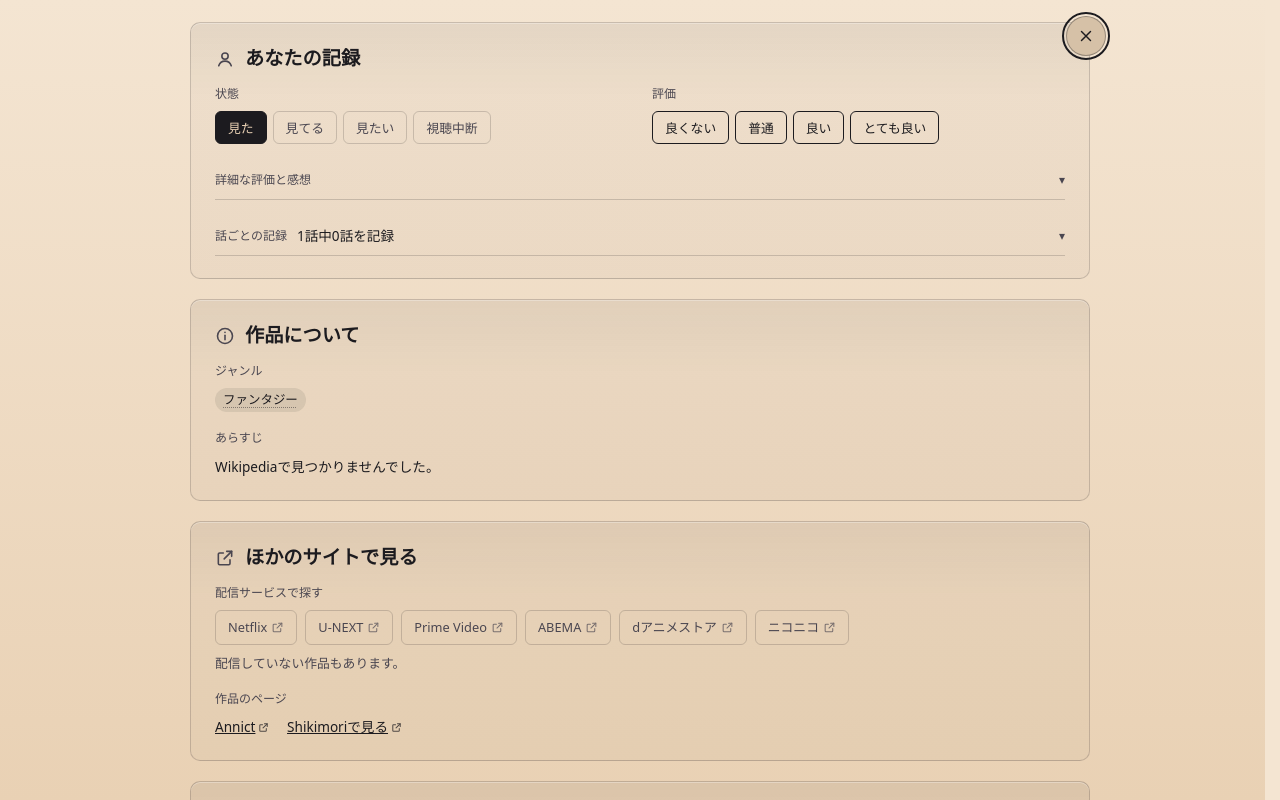
WorkDetail › opens the popular anime of a genre on top when its tag is pressed
This screenshot has width=1280, height=800.
(page scrolled)
Click the button "ファンタジー" at (260, 400), box 215,388 -> 306,412
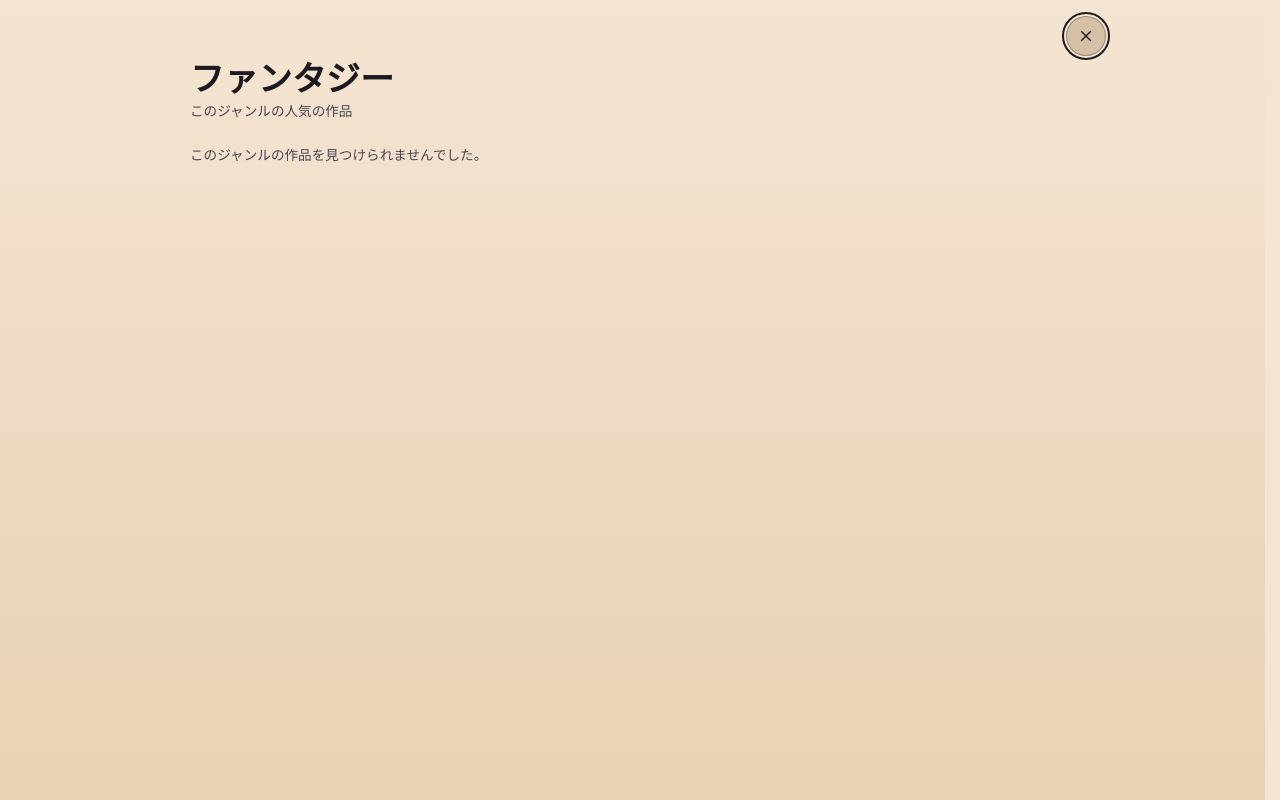
Expected: the text "このジャンルの人気の作品" is shown, 190,101 -> 352,120
